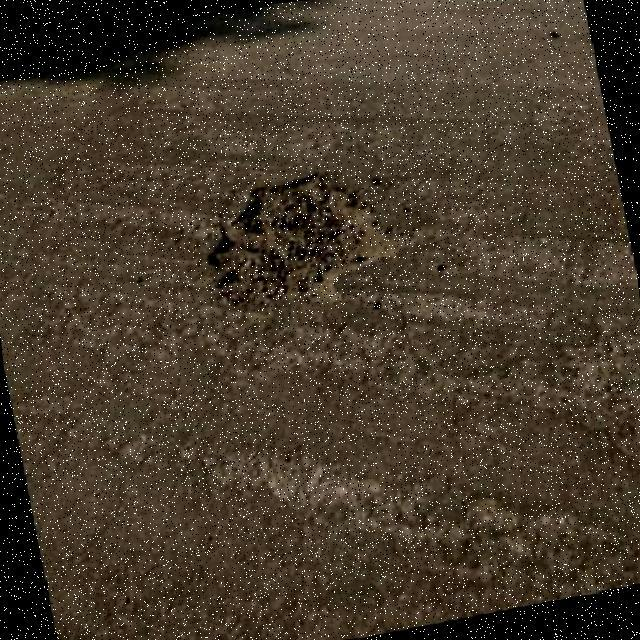Pothole: (207, 174, 397, 309)
